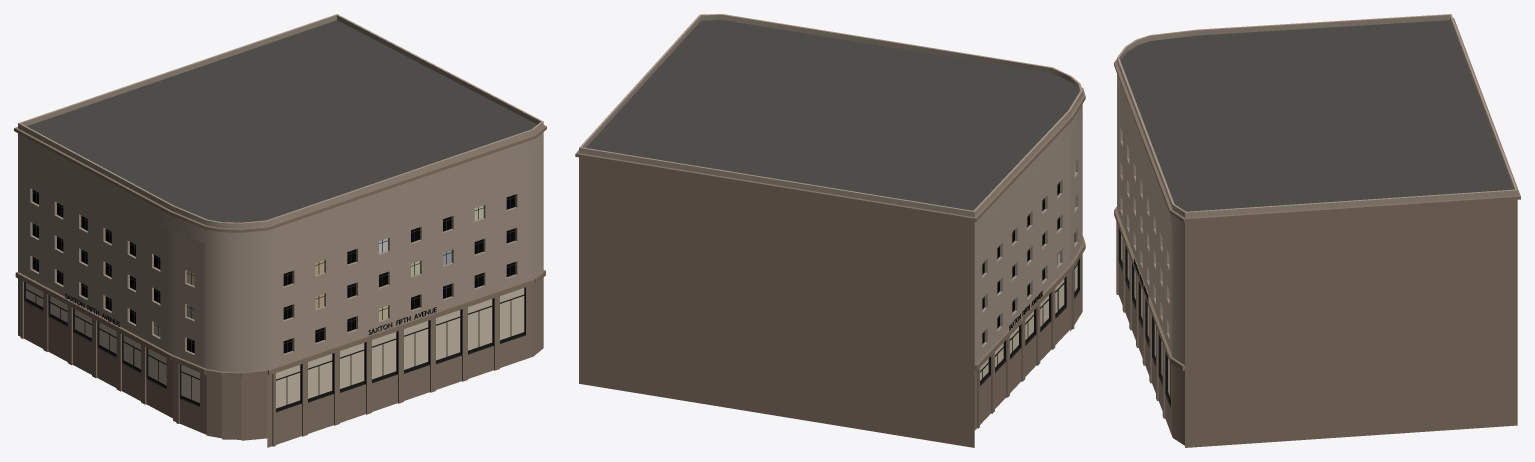
File: saks_lod0.glb
The picture shows the model from 3 angles, left to right: view 1: azimuth 30°, elevation 25°; view 2: azimuth 150°, elevation 25°; view 3: azimuth 270°, elevation 25°; orthographic projection. The views are drawn at different scales.
Visible parts, largest first — view 1: L0_granite, L0_roof, L0_shop, L0_metal, L0_win; view 2: L0_granite, L0_roof, L0_metal, L0_shop, L0_win; view 3: L0_granite, L0_roof, L0_metal, L0_shop.
Boxes of the visible parts, x1,y1,x2,y2 form: L0_granite: (14, 14, 546, 447); L0_roof: (27, 20, 537, 222); L0_shop: (26, 283, 524, 408); L0_metal: (24, 191, 525, 412); L0_win: (32, 190, 515, 353); L0_granite: (575, 14, 1085, 447); L0_roof: (586, 20, 1079, 210); L0_metal: (980, 183, 1079, 385); L0_shop: (980, 262, 1077, 380); L0_win: (982, 163, 1075, 343); L0_granite: (1114, 14, 1520, 447); L0_roof: (1120, 20, 1513, 211); L0_metal: (1118, 228, 1170, 407); L0_shop: (1121, 234, 1170, 398).
Bounding box in the file's own units: 57.34 × 31.23 × 48.95.
